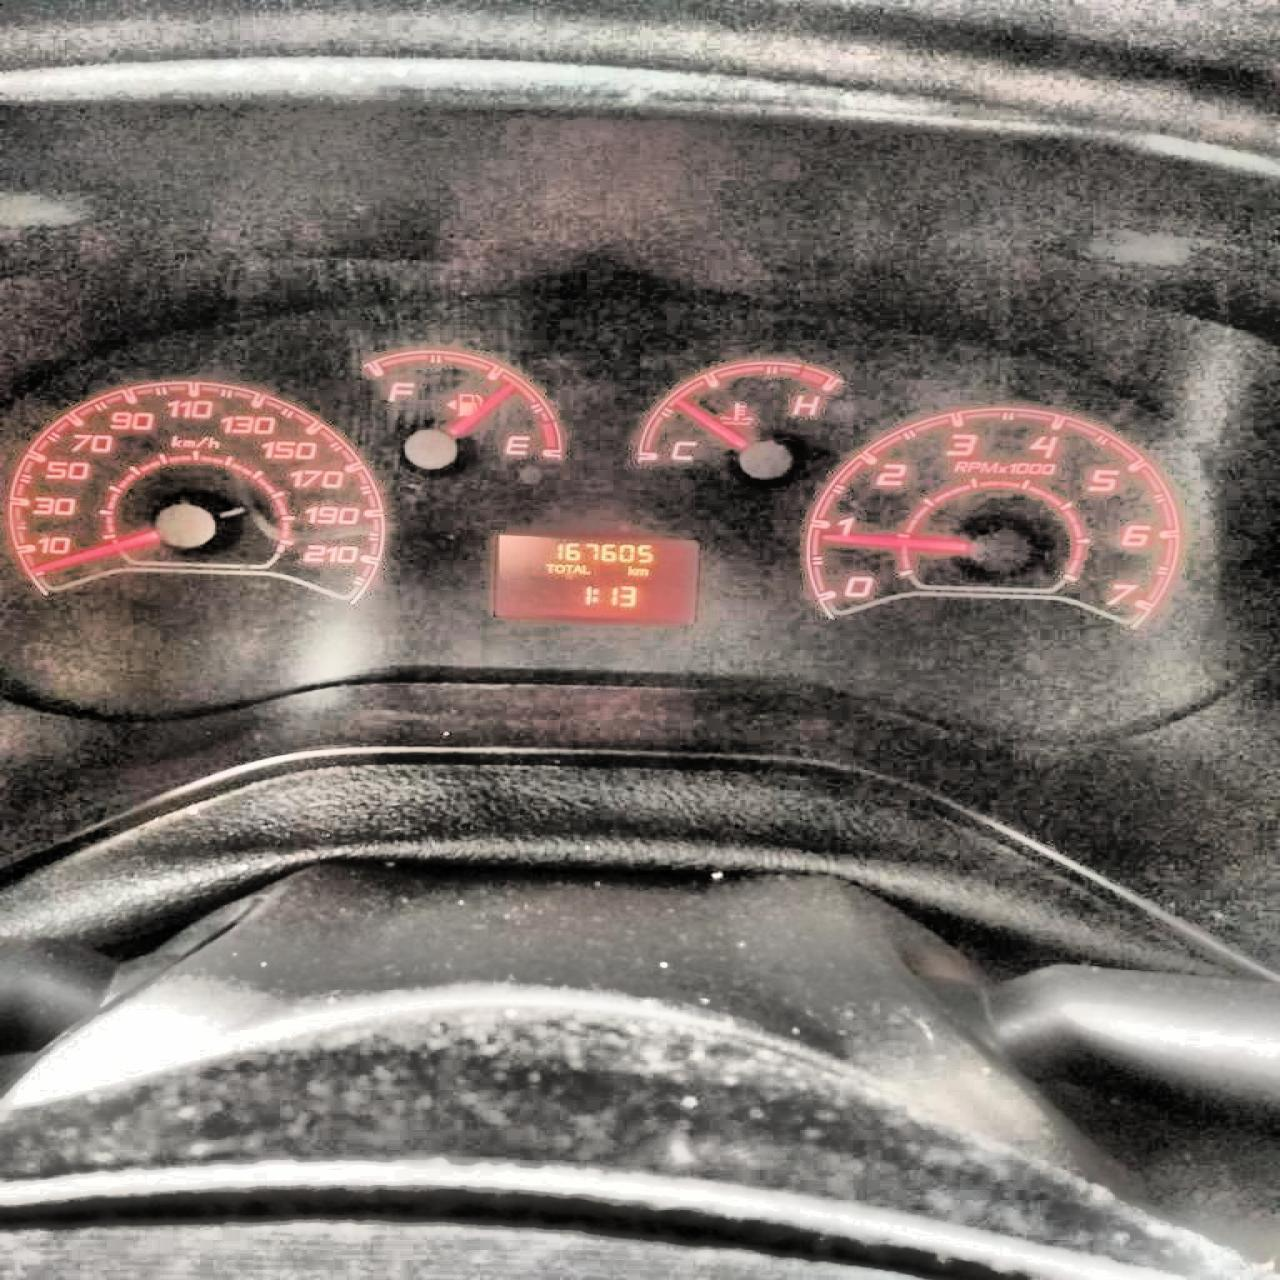0: (617, 543, 633, 561)
1: (553, 542, 564, 560), (581, 584, 591, 605), (608, 584, 617, 606)
3: (617, 584, 635, 607)
5: (635, 543, 653, 563)
6: (564, 542, 580, 560), (598, 543, 614, 561)
7: (584, 542, 599, 561)
X: (633, 566, 648, 576), (625, 564, 635, 577), (592, 586, 598, 604), (544, 561, 553, 572), (553, 563, 564, 572), (581, 563, 591, 573), (572, 563, 580, 573), (564, 563, 572, 572)
odometer: (486, 526, 706, 625)
